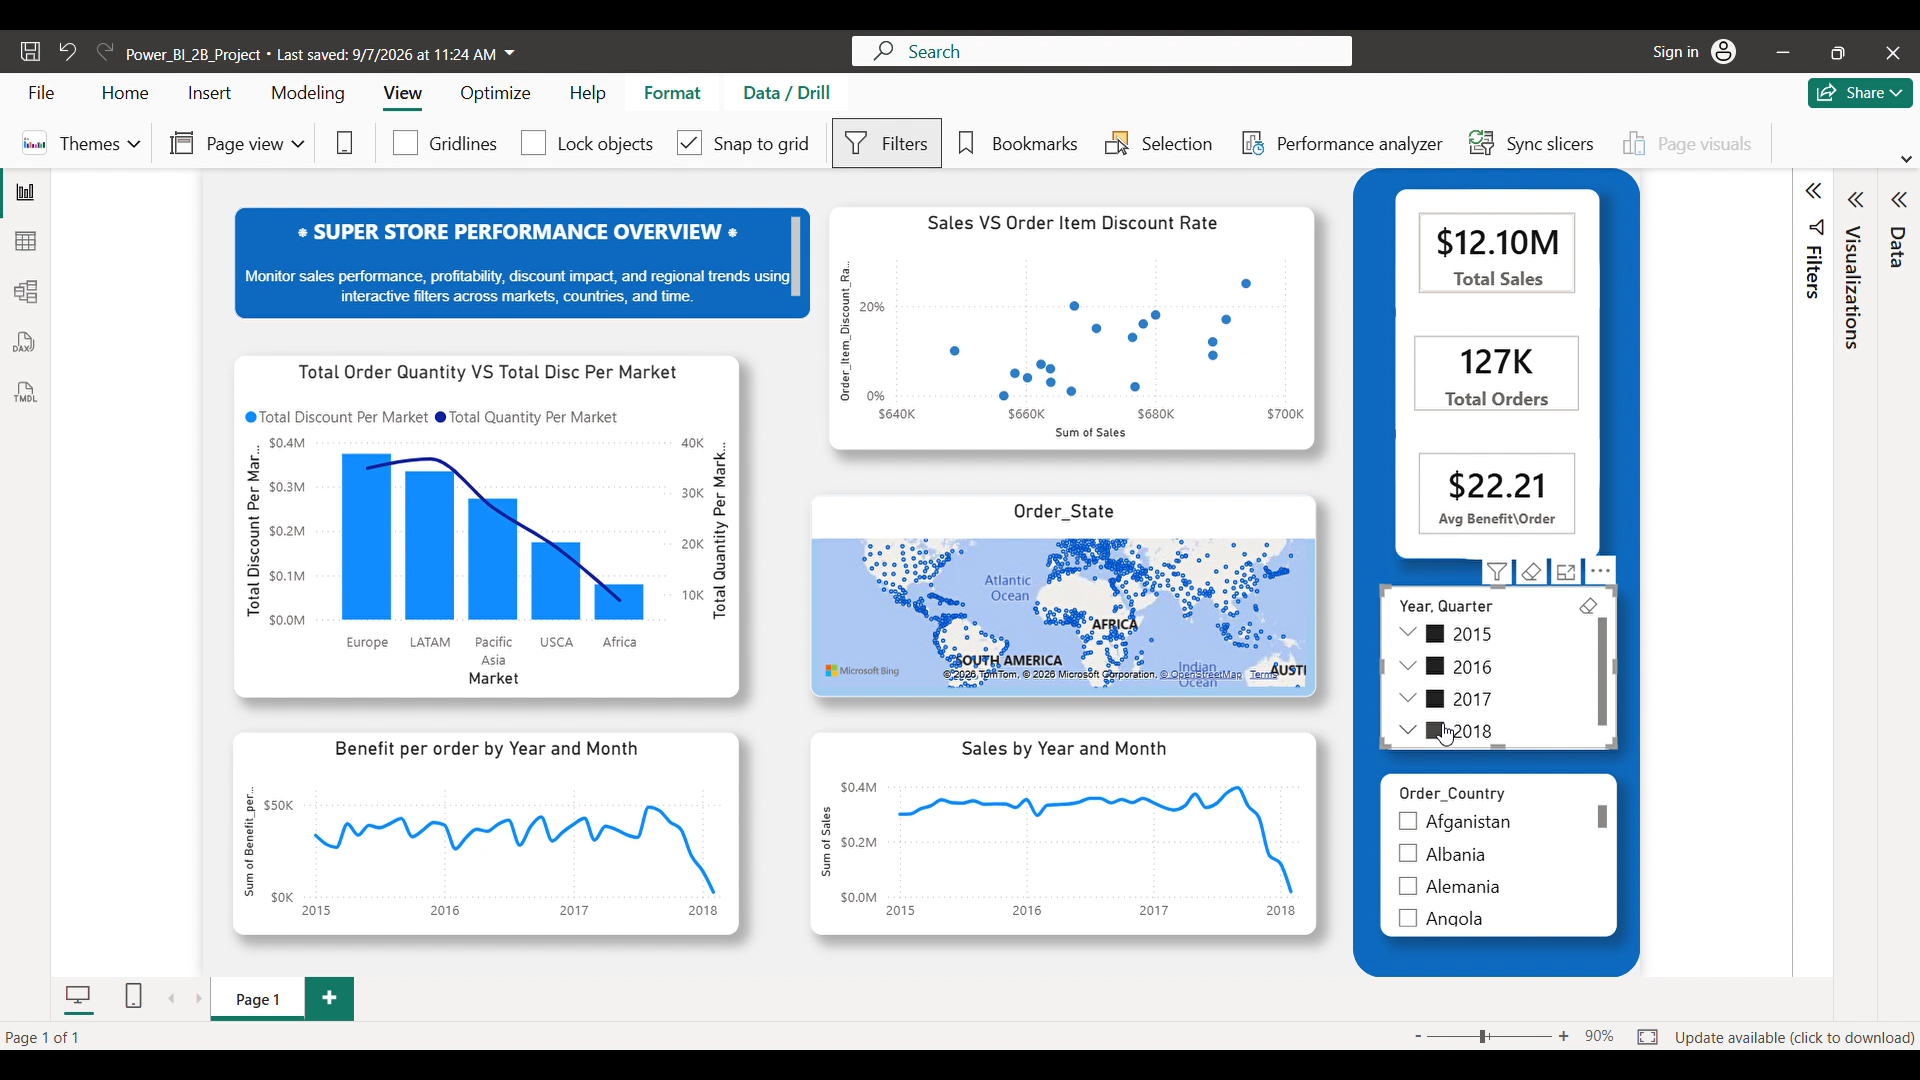

This screenshot's page, from the dashboard's own definition file:
{"tool":"powerbi","page":{"name":"Page 1","canvas":[1280,720],"ordinal":0},"visuals":[{"type":"shape","box":[1024.3,0,255.7,720],"z":0},{"type":"shape","box":[1061.4,18.6,182,329.3],"z":1000},{"type":"slicer","fields":{"Values":["Supply_Chain_dataset_cleaned.Order_Country"]},"box":[1048.6,538.6,210,145],"z":2000},{"type":"slicer","fields":{"Values":["Supply_Chain_dataset_cleaned.order_date_(DateOrders).Variation.Date Hierarchy.Year","Supply_Chain_dataset_cleaned.order_date_(DateOrders).Variation.Date Hierarchy.Quarter"]},"box":[1048.6,371.4,210,145.5],"z":3000},{"type":"lineChart","title":"Sales by Year and Month","fields":{"Category":["Supply_Chain_dataset_cleaned.shipping_date_(DateOrders).Variation.Date Hierarchy.Year","Supply_Chain_dataset_cleaned.shipping_date_(DateOrders).Variation.Date Hierarchy.Month"],"Y":["Sum(Supply_Chain_dataset_cleaned.Sales)"]},"box":[540.9,502.6,450,180],"z":4000},{"type":"lineChart","title":"Benefit per order by Year and Month","fields":{"Category":["Supply_Chain_dataset_cleaned.shipping_date_(DateOrders).Variation.Date Hierarchy.Year","Supply_Chain_dataset_cleaned.shipping_date_(DateOrders).Variation.Date Hierarchy.Month"],"Y":["Sum(Supply_Chain_dataset_cleaned.Benefit_per_order)"]},"box":[26.5,502.6,450,180],"z":5000},{"type":"map","fields":{"Category":["Supply_Chain_dataset_cleaned.Order_State"]},"box":[540.9,291,450,180],"z":6000},{"type":"cardVisual","fields":{"Data":["Sum(Supply_Chain_dataset_cleaned.Rounded_Sales)"]},"box":[1061.4,18.6,181.8,113.6],"z":7000},{"type":"cardVisual","fields":{"Data":["Sum(Supply_Chain_dataset_cleaned.Order_Item_Quantity)"]},"box":[1061.4,132.9,180,100],"z":8000},{"type":"cardVisual","fields":{"Data":["Avg(Supply_Chain_dataset_cleaned.Rounded_Benefit_per_order)"]},"box":[1061.4,232.9,181.8,114.5],"z":9000},{"type":"lineClusteredColumnComboChart","title":"Total Order Quantity VS Total Disc Per Market","fields":{"Y2":["Sum(Supply_Chain_dataset_cleaned.Order_Item_Quantity)"],"Category":["Supply_Chain_dataset_cleaned.Market"],"Y":["Sum(Supply_Chain_dataset_cleaned.Order_Item_Discount)"]},"box":[28,166.7,449.3,304],"z":10000},{"type":"scatterChart","title":"Sales VS Order Item Discount Rate","fields":{"X":["Sum(Supply_Chain_dataset_cleaned.Sales)"],"Y":["Supply_Chain_dataset_cleaned.Order_Item_Discount_Rate"]},"box":[558,34,432,216],"z":11000},{"type":"shape","box":[28,34.7,513.3,100],"z":12000},{"type":"textbox","box":[27.8,34.4,513.3,100],"z":13000}]}

Visuals, with their boxes on the page's 1280x720 design canvas (x1, y1, x2, y2). These are canvas units, not pixel positions in the 1920x1080 screenshot, which may show the page scaled, cropped or inside an application window:
shape: [left=1024, top=0, right=1280, bottom=720]
shape: [left=1061, top=19, right=1243, bottom=348]
slicer - Supply_Chain_dataset_cleaned.Order_Country: [left=1049, top=539, right=1259, bottom=684]
slicer - Supply_Chain_dataset_cleaned.order_date_(DateOrders).Variation.Date Hierarchy.Year x Supply_Chain_dataset_cleaned.order_date_(DateOrders).Variation.Date Hierarchy.Quarter: [left=1049, top=371, right=1259, bottom=517]
"Sales by Year and Month" lineChart: [left=541, top=503, right=991, bottom=683]
"Benefit per order by Year and Month" lineChart: [left=26, top=503, right=476, bottom=683]
map - Supply_Chain_dataset_cleaned.Order_State: [left=541, top=291, right=991, bottom=471]
cardVisual - Sum(Supply_Chain_dataset_cleaned.Rounded_Sales): [left=1061, top=19, right=1243, bottom=132]
cardVisual - Sum(Supply_Chain_dataset_cleaned.Order_Item_Quantity): [left=1061, top=133, right=1241, bottom=233]
cardVisual - Avg(Supply_Chain_dataset_cleaned.Rounded_Benefit_per_order): [left=1061, top=233, right=1243, bottom=347]
"Total Order Quantity VS Total Disc Per Market" lineClusteredColumnComboChart: [left=28, top=167, right=477, bottom=471]
"Sales VS Order Item Discount Rate" scatterChart: [left=558, top=34, right=990, bottom=250]
shape: [left=28, top=35, right=541, bottom=135]
textbox: [left=28, top=34, right=541, bottom=134]
